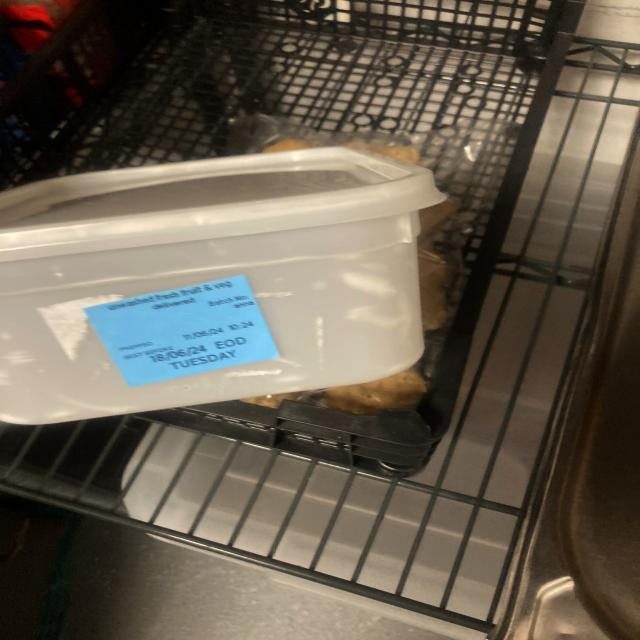product-labels: (84, 270, 282, 394)
